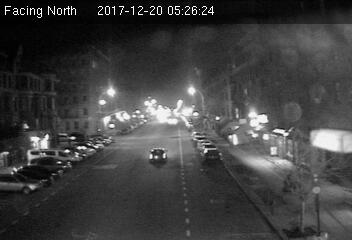car: (149, 147, 168, 163)
